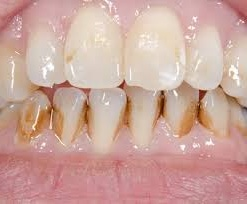Tooth Discoloration: (12, 95, 67, 147), (177, 96, 217, 139), (74, 92, 95, 146), (110, 92, 134, 138), (151, 89, 168, 129)
